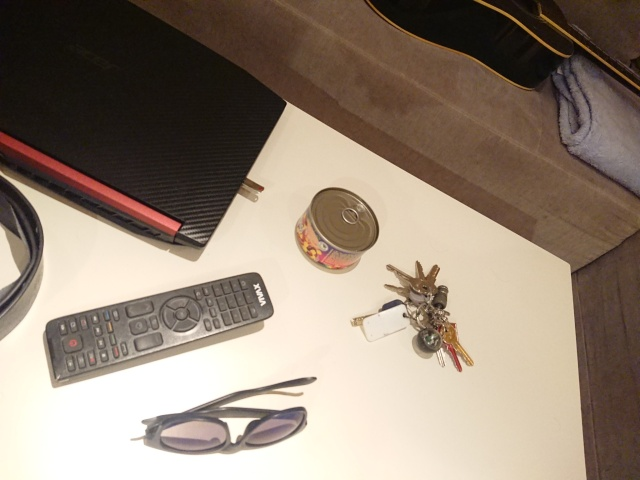Giana Tuna Salad Mexico 185g: (291, 184, 382, 275)
